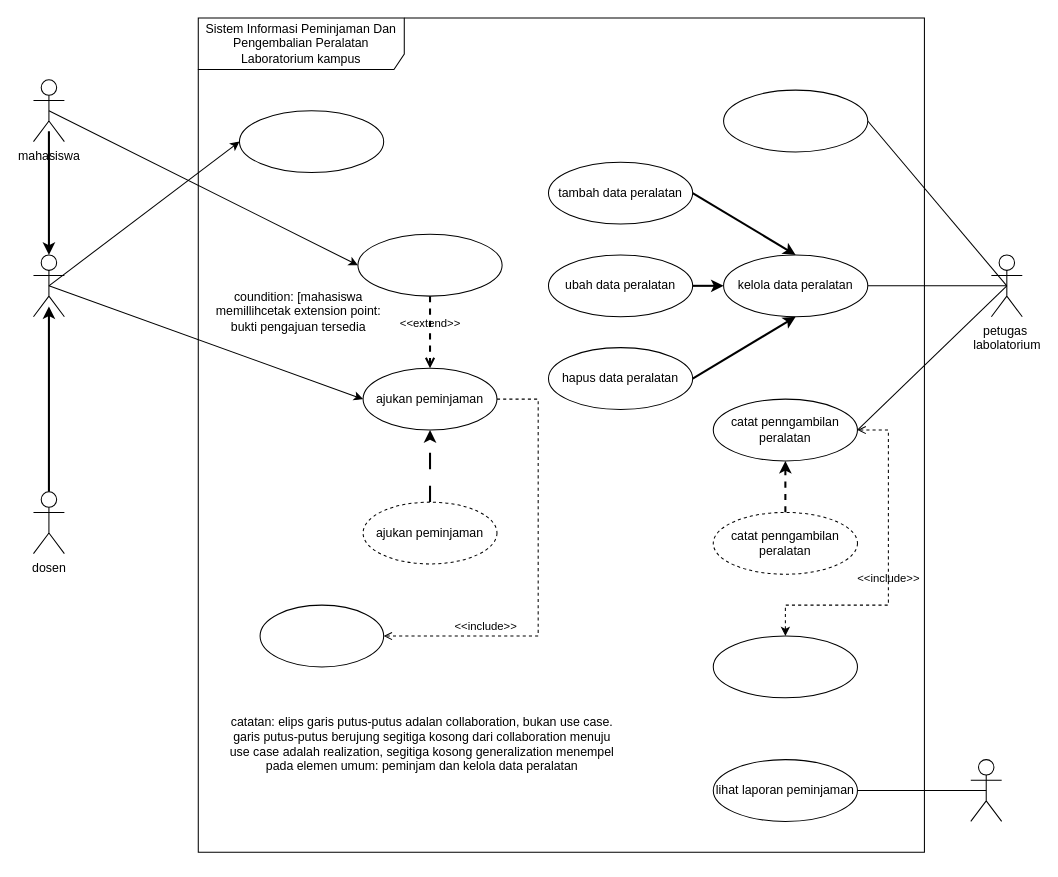
Image size: 1058x877. Some labels were removed from this diagram. The centre of each missing label's shape, as x and y in pixels:
"cetak bukti pengajuan" belongs at (429,264).
"kepala laboratorium" belongs at (986,790).
"lihat ketersediaan peralatan" belongs at (311,141).
"peminjam" belongs at (48,285).
"periksa ketersediaan" belongs at (321,635).
"periksa kondisi peralatan" belongs at (784,666).
"proses keputusan peminjaman" belongs at (795,120).
